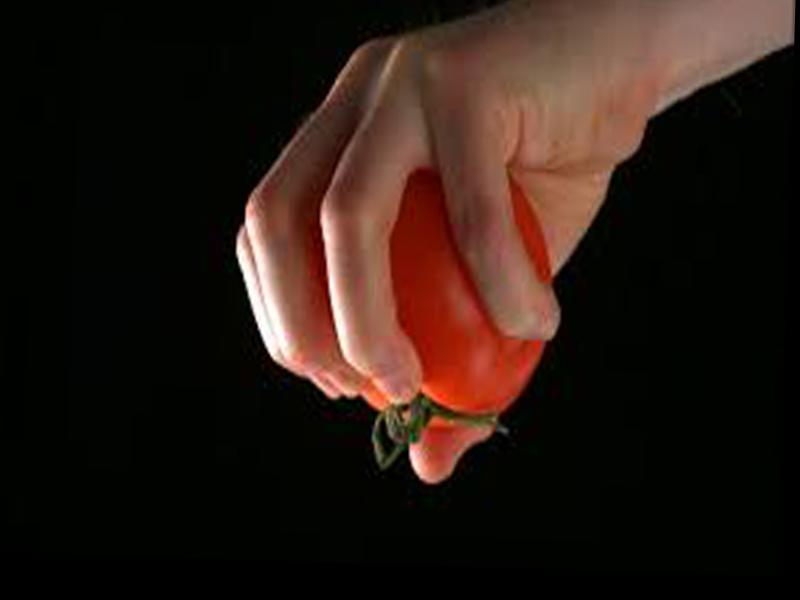Tomato: (357, 159, 555, 418)
